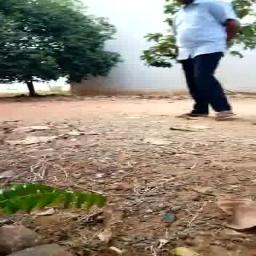Azadiractha Indica: (12, 179, 115, 217)
